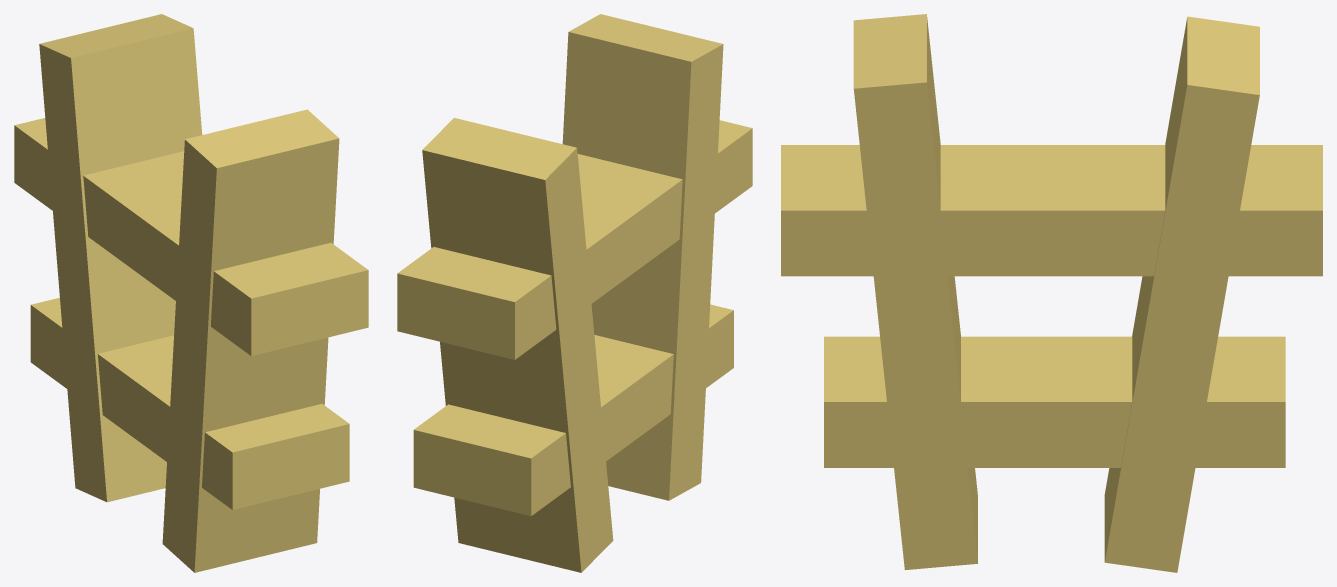
The model's file is hahaha.fbx.
The picture shows the model from 3 angles, left to right: view 1: azimuth 30°, elevation 25°; view 2: azimuth 150°, elevation 25°; view 3: azimuth 270°, elevation 25°; orthographic projection. The views are drawn at different scales.
Visible parts, largest first — view 1: 立方体.001; view 2: 立方体.001; view 3: 立方体.001.
Part boxes in pixels (box(x1,y1,x2,y2)): 立方体.001: box(14, 14, 368, 572); 立方体.001: box(397, 14, 752, 572); 立方体.001: box(781, 14, 1322, 572).
Size of the model in its own units: 122 by 407 by 407.
